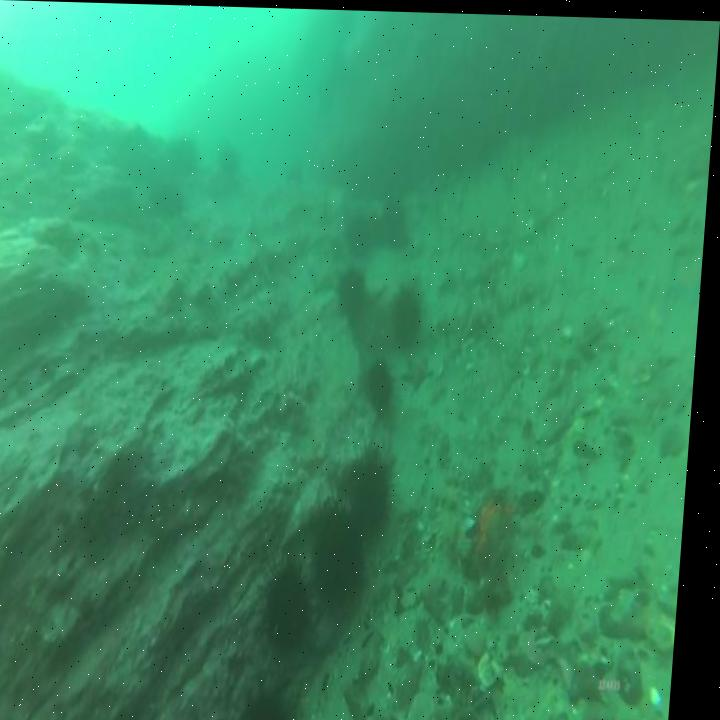echinus: (259, 547, 331, 663), (310, 492, 381, 607), (343, 439, 406, 538), (242, 672, 316, 720), (391, 274, 432, 352), (334, 259, 377, 327), (368, 352, 404, 421), (375, 194, 413, 253), (152, 173, 192, 227), (345, 202, 382, 260), (216, 137, 246, 183)
holothurian: (436, 478, 481, 552)
starfish: (402, 342, 445, 393)
